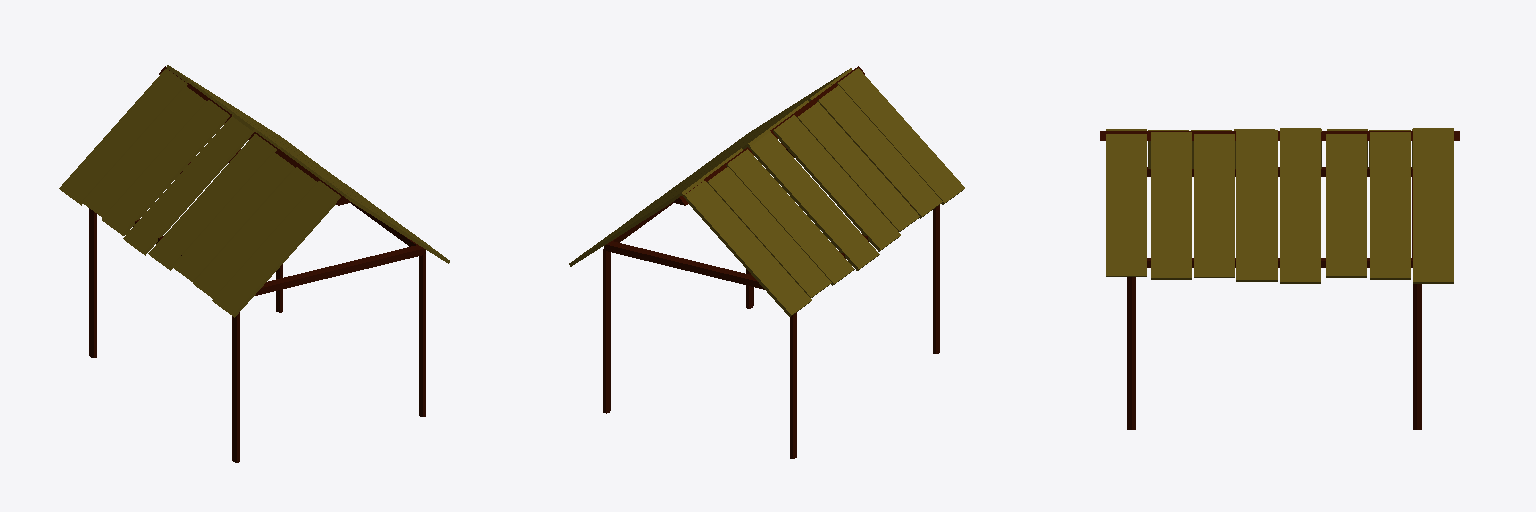
Rendered from Hut_C.obj.
3 renders of one model, left to right at view 1: azimuth 30°, elevation 25°; view 2: azimuth 150°, elevation 25°; view 3: azimuth 270°, elevation 25°, orthographic.
Visible parts, largest first — view 1: Hut_C; view 2: Hut_C; view 3: Hut_C.
Part boxes in pixels (bbox=[...]): Hut_C: bbox=[59, 65, 449, 462]; Hut_C: bbox=[569, 66, 964, 458]; Hut_C: bbox=[1100, 128, 1459, 429].
Bounding box in the file's own units: 7.96 × 8.66 × 11.04.